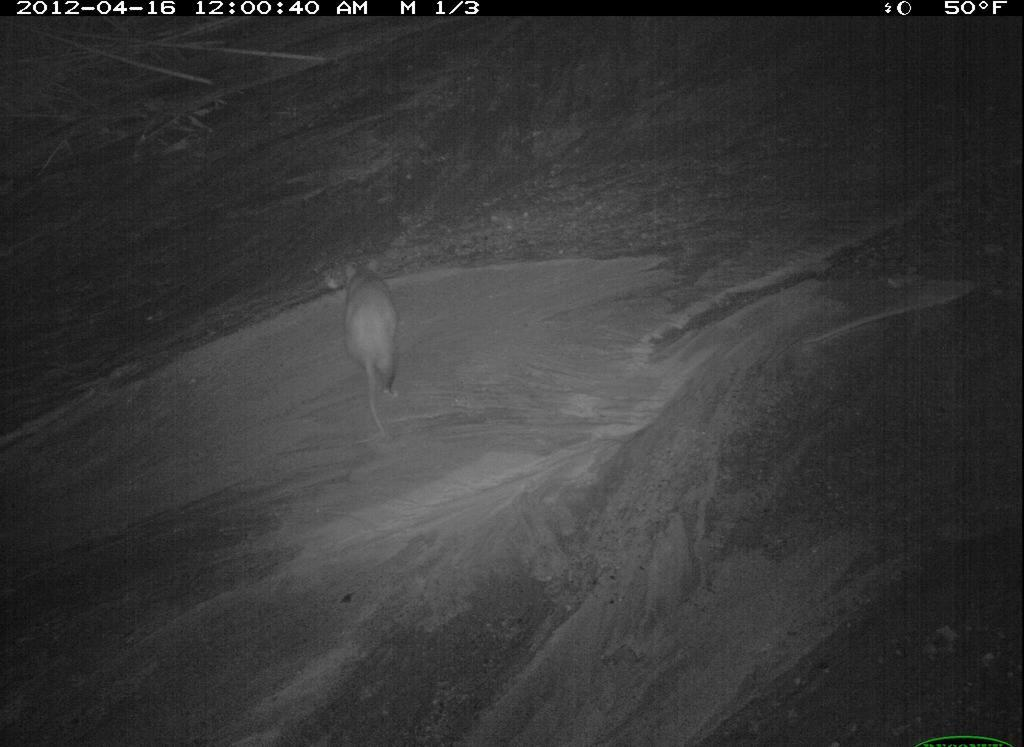opossum: (681, 507, 822, 747)
